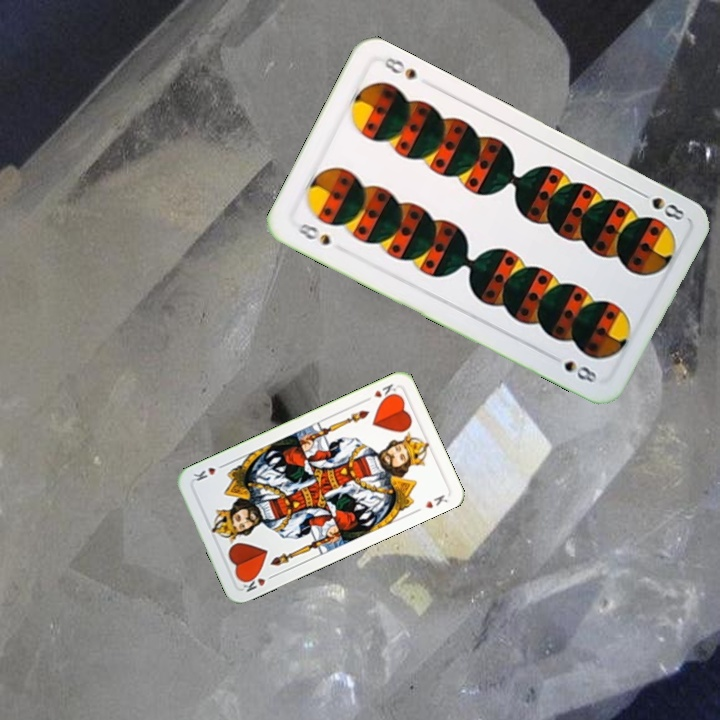HK: (360, 380, 401, 405), (237, 570, 278, 595)
S8: (633, 186, 687, 223), (293, 219, 333, 248)
